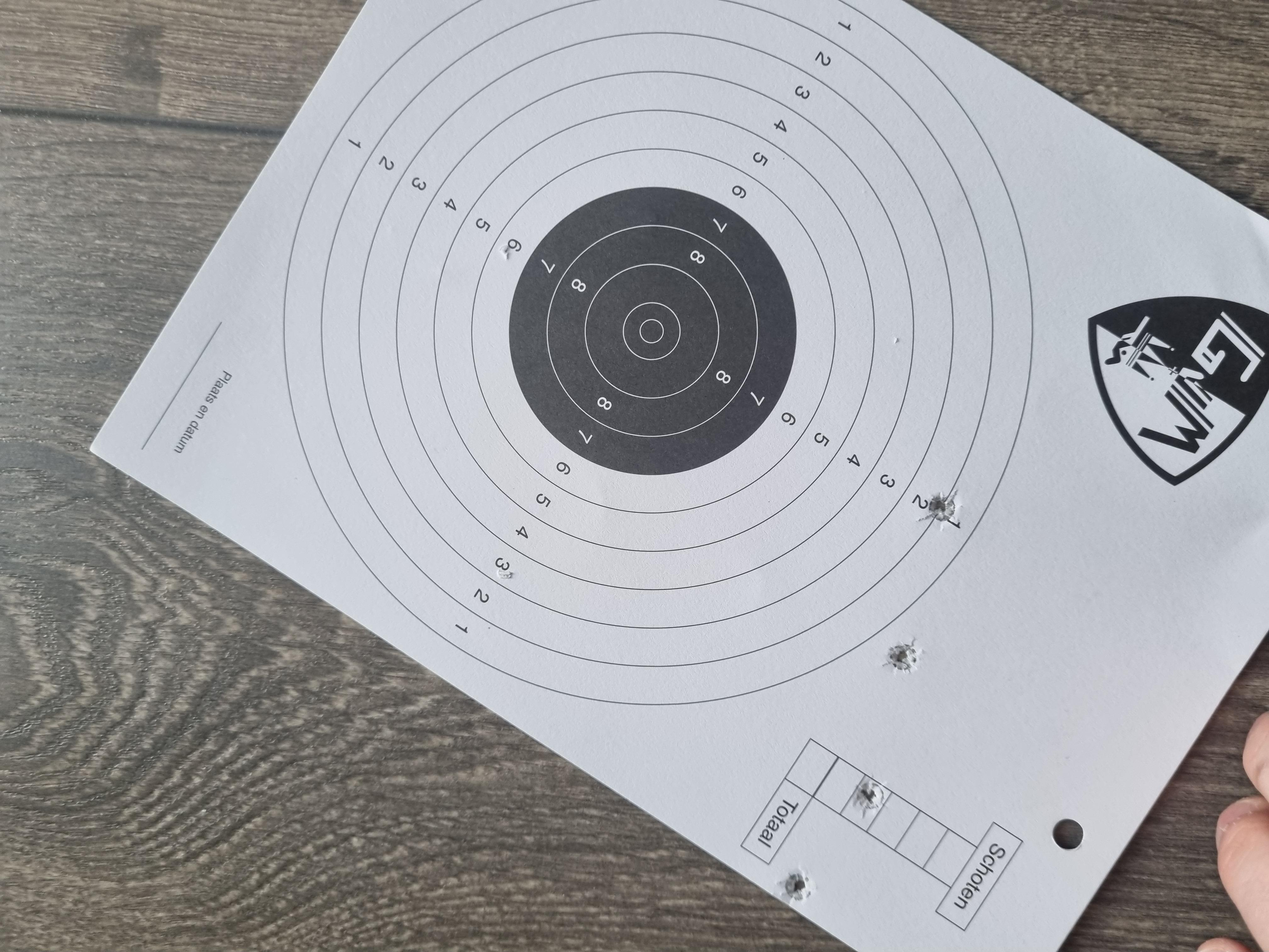hole: (185, 637, 231, 666), (572, 690, 616, 719), (369, 661, 408, 692), (69, 583, 110, 612)
